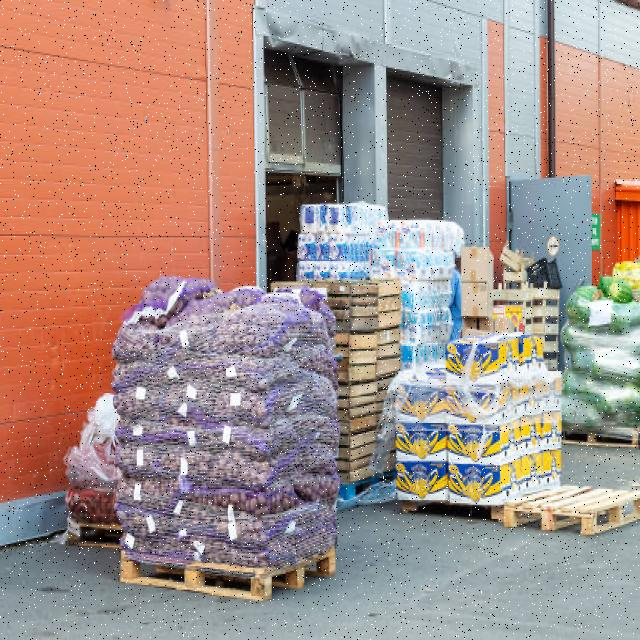Wooden-Pallets: (117, 548, 343, 603), (502, 475, 640, 538)
